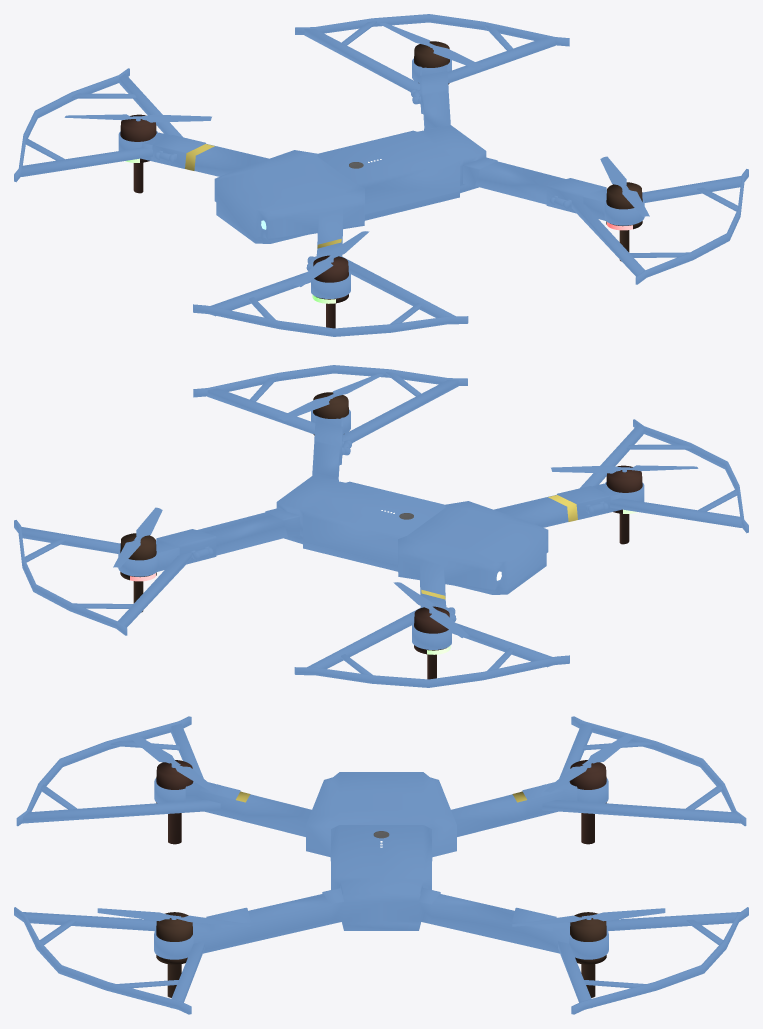
File: Drone3d.gltf
The picture shows the model from 3 angles, top to bottom: view 1: azimuth 30°, elevation 25°; view 2: azimuth 150°, elevation 25°; view 3: azimuth 270°, elevation 25°; orthographic projection. The views are drawn at different scales.
Parts seen in each view (by area): view 1: Node2; view 2: Node2; view 3: Node2.
Boxes of the visible parts, <box> form: Node2: <box>14,14,748,336</box>; Node2: <box>14,365,748,687</box>; Node2: <box>14,716,748,1014</box>.
Bounding box in the file's own units: 10.93 × 1.38 × 11.65.
